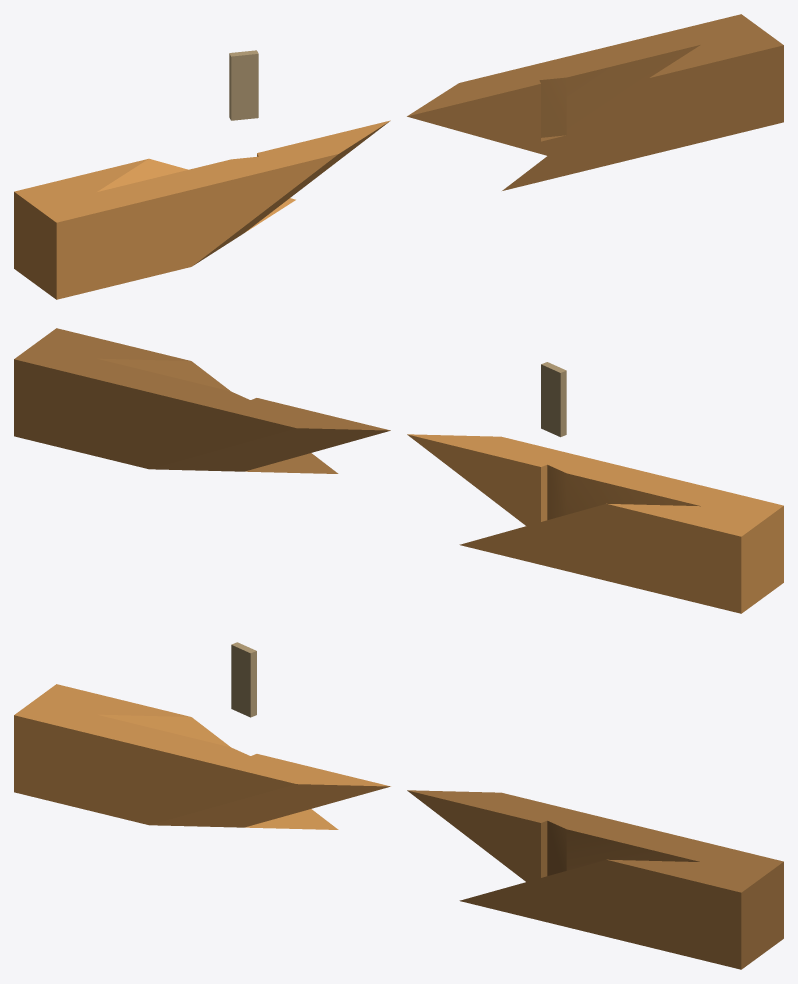
The picture shows the model from 3 angles, top to bottom: view 1: azimuth 30°, elevation 25°; view 2: azimuth 150°, elevation 25°; view 3: azimuth 330°, elevation 25°; orthographic projection.
Size of the model in its own units: 2.13 by 0.504 by 0.216.
